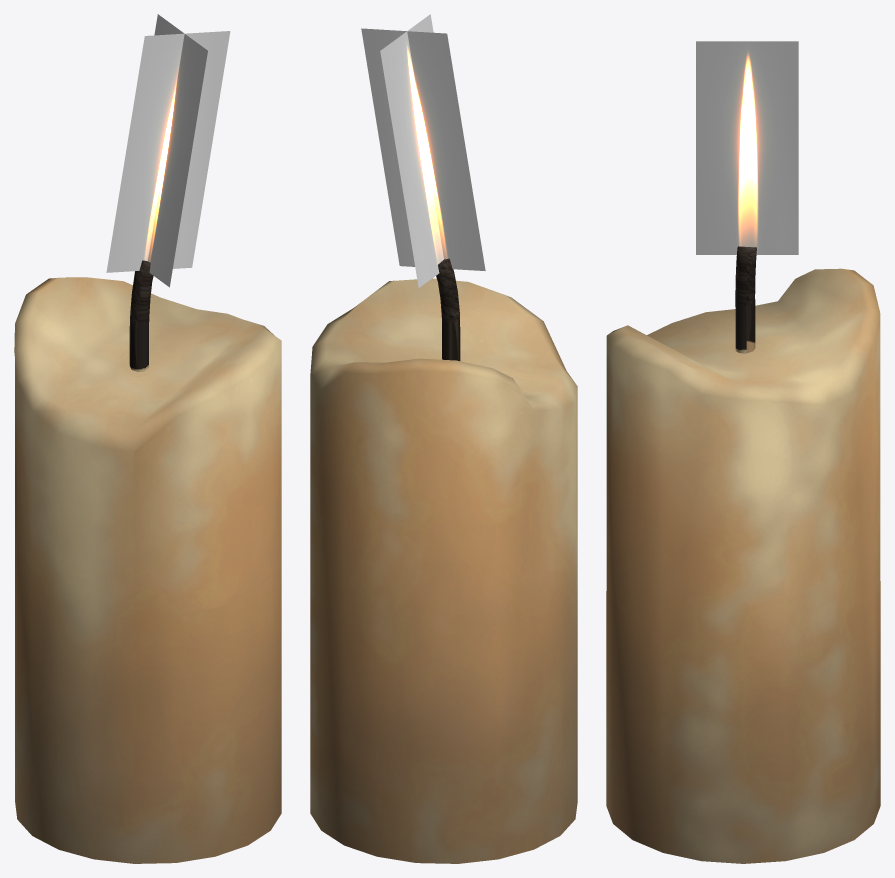
File: SM_candle_02.fbx
The picture shows the model from 3 angles, left to right: view 1: azimuth 30°, elevation 25°; view 2: azimuth 150°, elevation 25°; view 3: azimuth 270°, elevation 25°; orthographic projection. The views are drawn at different scales.
Parts seen in each view (by area): view 1: SM_candle_02_LOD0; view 2: SM_candle_02_LOD0; view 3: SM_candle_02_LOD0.
Part boxes in pixels (<box>): SM_candle_02_LOD0: <box>14,14,281,863</box>; SM_candle_02_LOD0: <box>310,14,577,863</box>; SM_candle_02_LOD0: <box>606,41,880,863</box>.
Size of the model in its own units: 5.65 by 5.65 by 17.95.
Materials: 2 (1 with a texture image).
